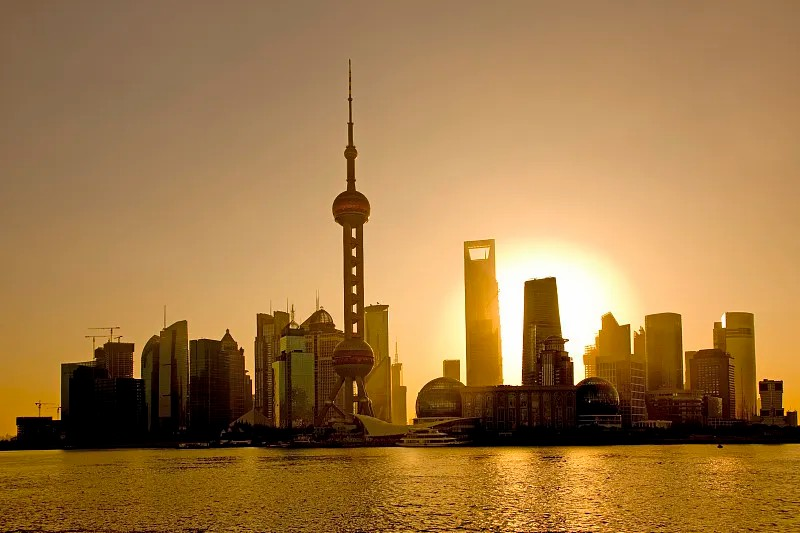Oriental: (321, 58, 374, 420)
